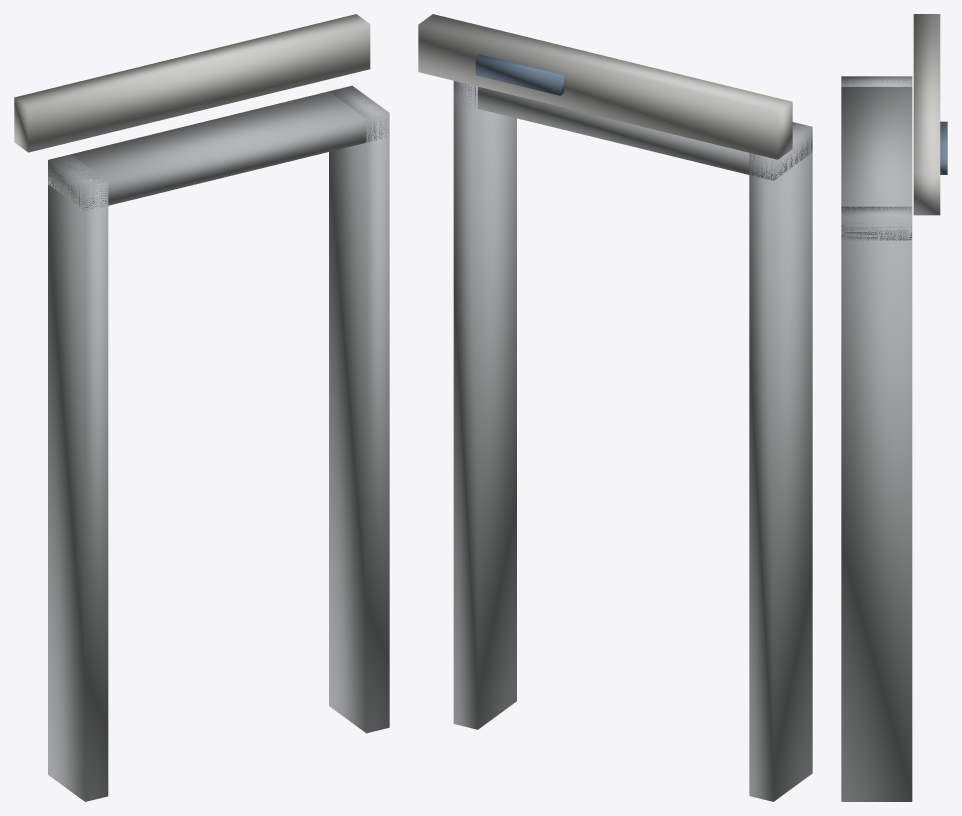
Rendered from doorway_hospital_w96_h210_d24.glb.
The picture shows the model from 3 angles, left to right: view 1: azimuth 30°, elevation 25°; view 2: azimuth 150°, elevation 25°; view 3: azimuth 270°, elevation 25°; orthographic projection. The views are drawn at different scales.
Visible parts, largest first — view 1: world; view 2: world; view 3: world.
Boxes of the visible parts, bbox=[...] form: world: bbox=[14, 14, 389, 801]; world: bbox=[418, 14, 812, 801]; world: bbox=[841, 14, 947, 801].
Size of the model in its own units: 1.27 by 2.39 by 0.36.
